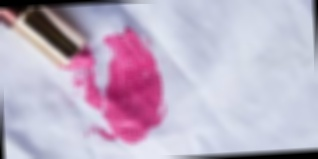lipstick: (86, 24, 174, 144)
